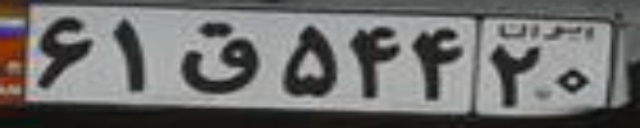0: (554, 67, 590, 93)
1: (110, 19, 145, 91)
2: (486, 43, 542, 107)
4: (347, 26, 402, 99), (408, 27, 463, 99)
5: (282, 22, 340, 96)
6: (34, 15, 94, 88)
ghaf: (176, 22, 264, 93)
